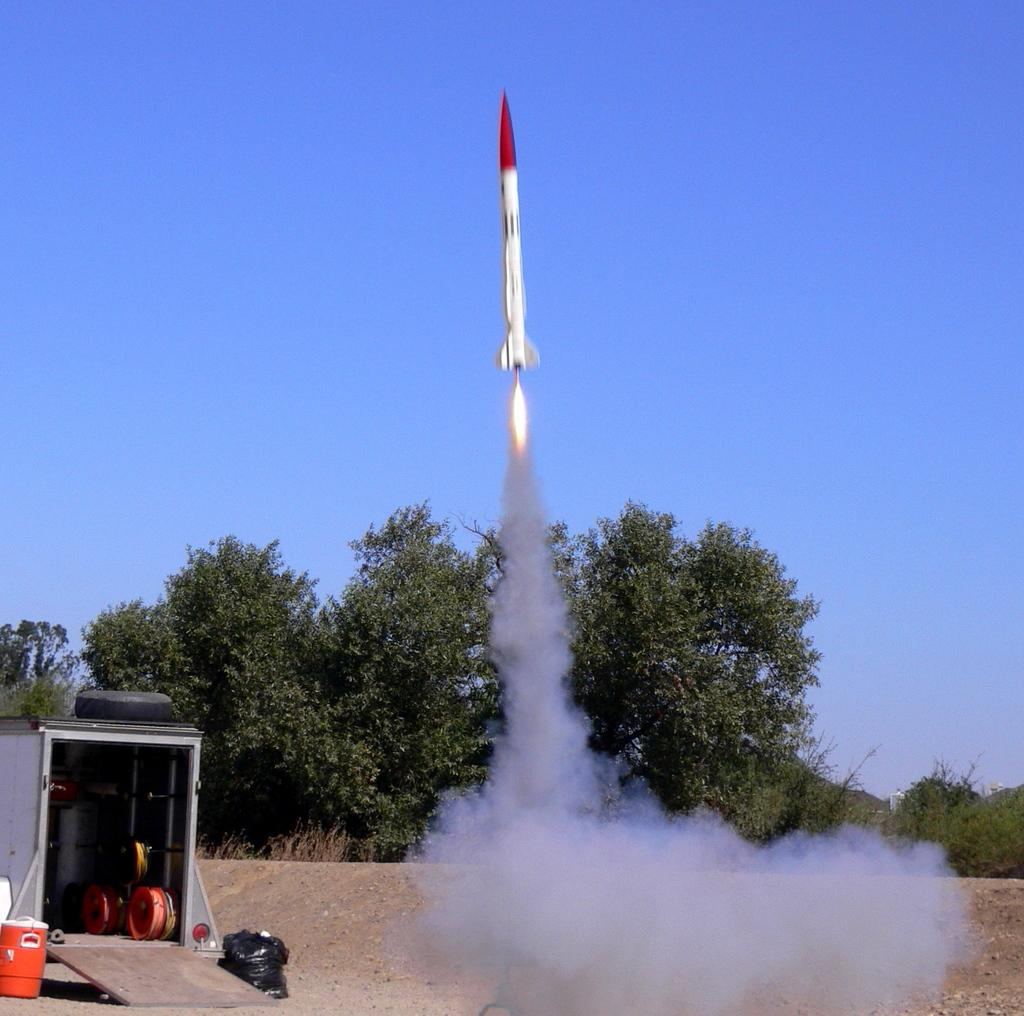Missile: (489, 87, 539, 377)
